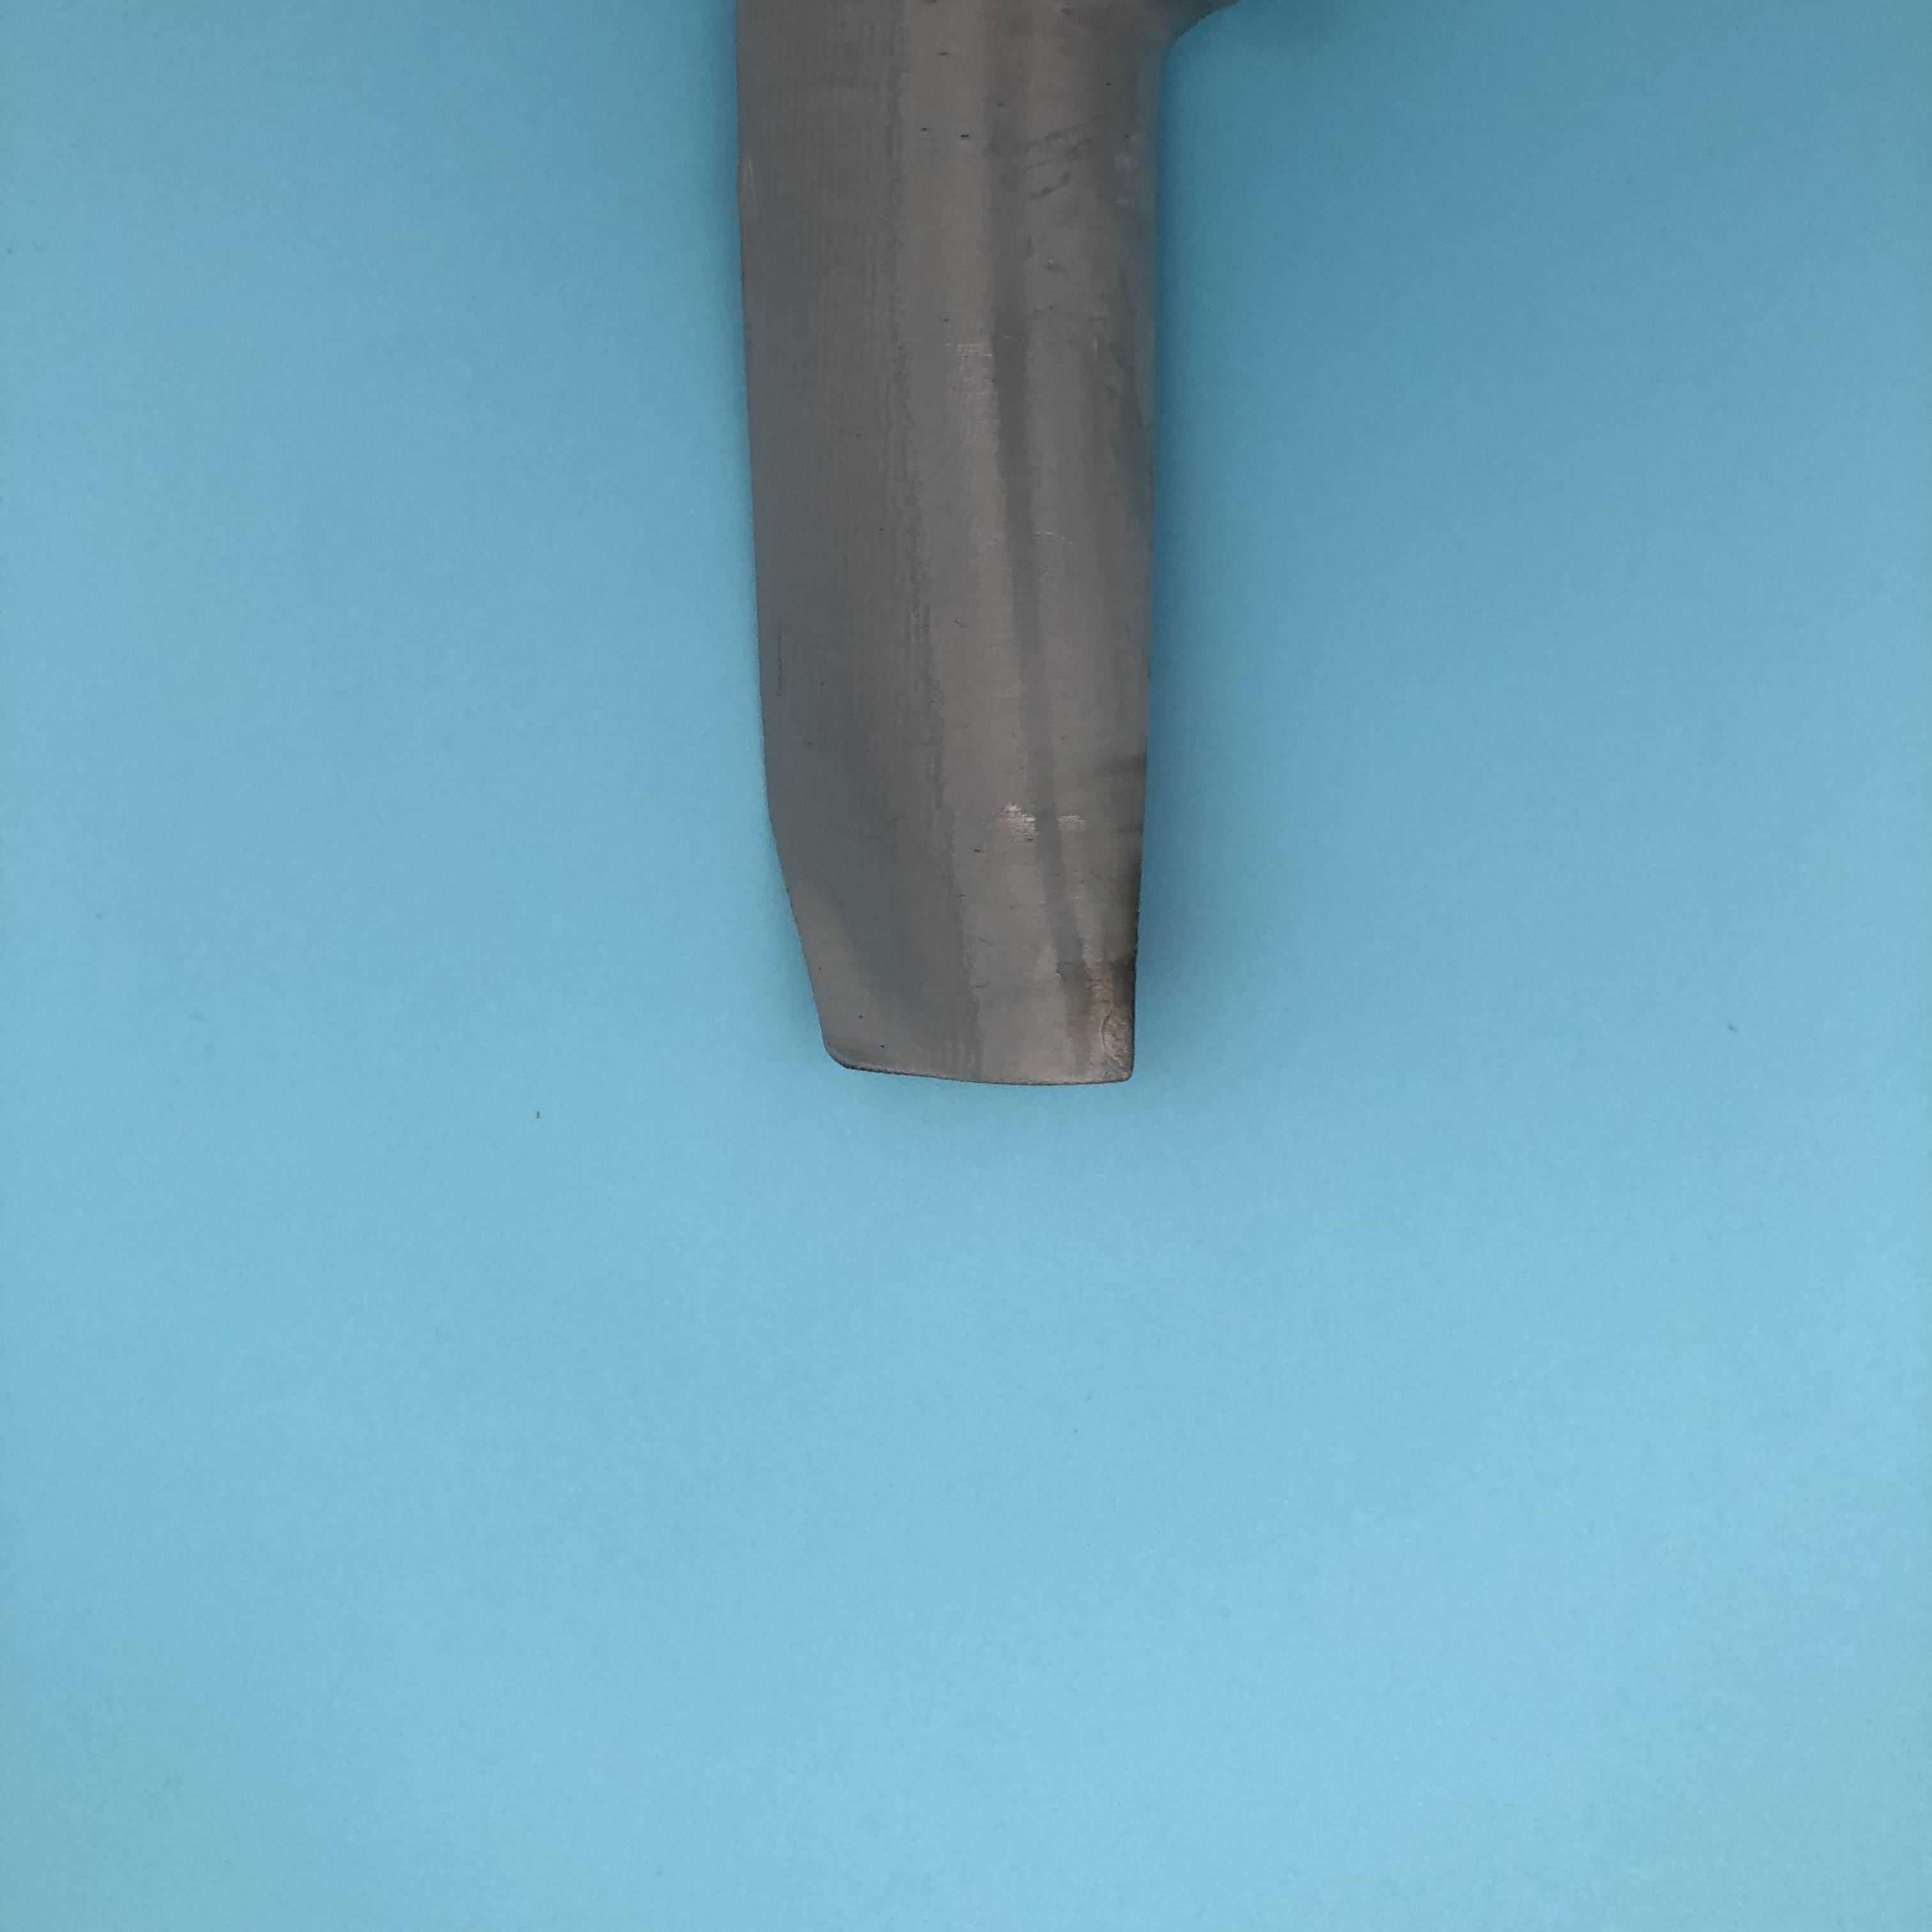ablation: (1074, 764, 1171, 1069)
